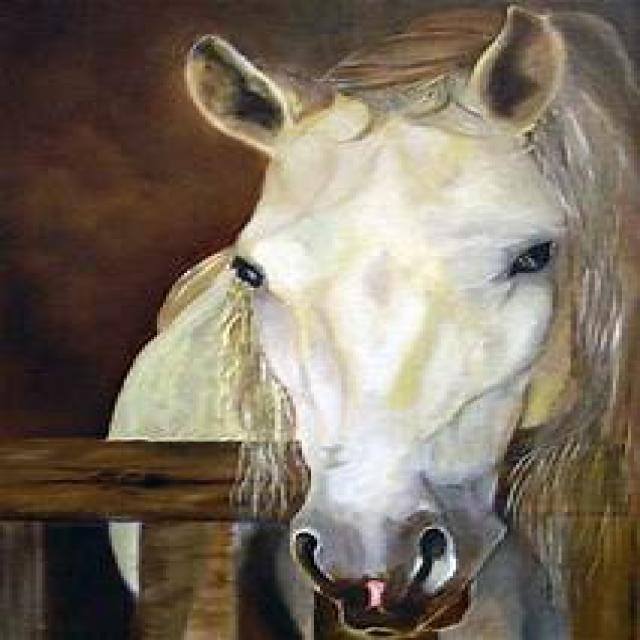animal: (100, 2, 637, 638)
